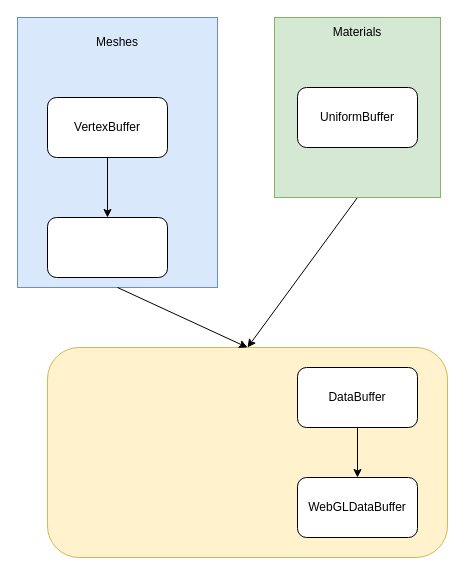
The diagram is 465 pixels wide and 575 high, and some of its shapes have lost their labels. Here are the shapes that lost their labels. From the top down, the box of each, then its label:
(46, 216, 168, 278): Buffer
(46, 346, 448, 558): Engine
